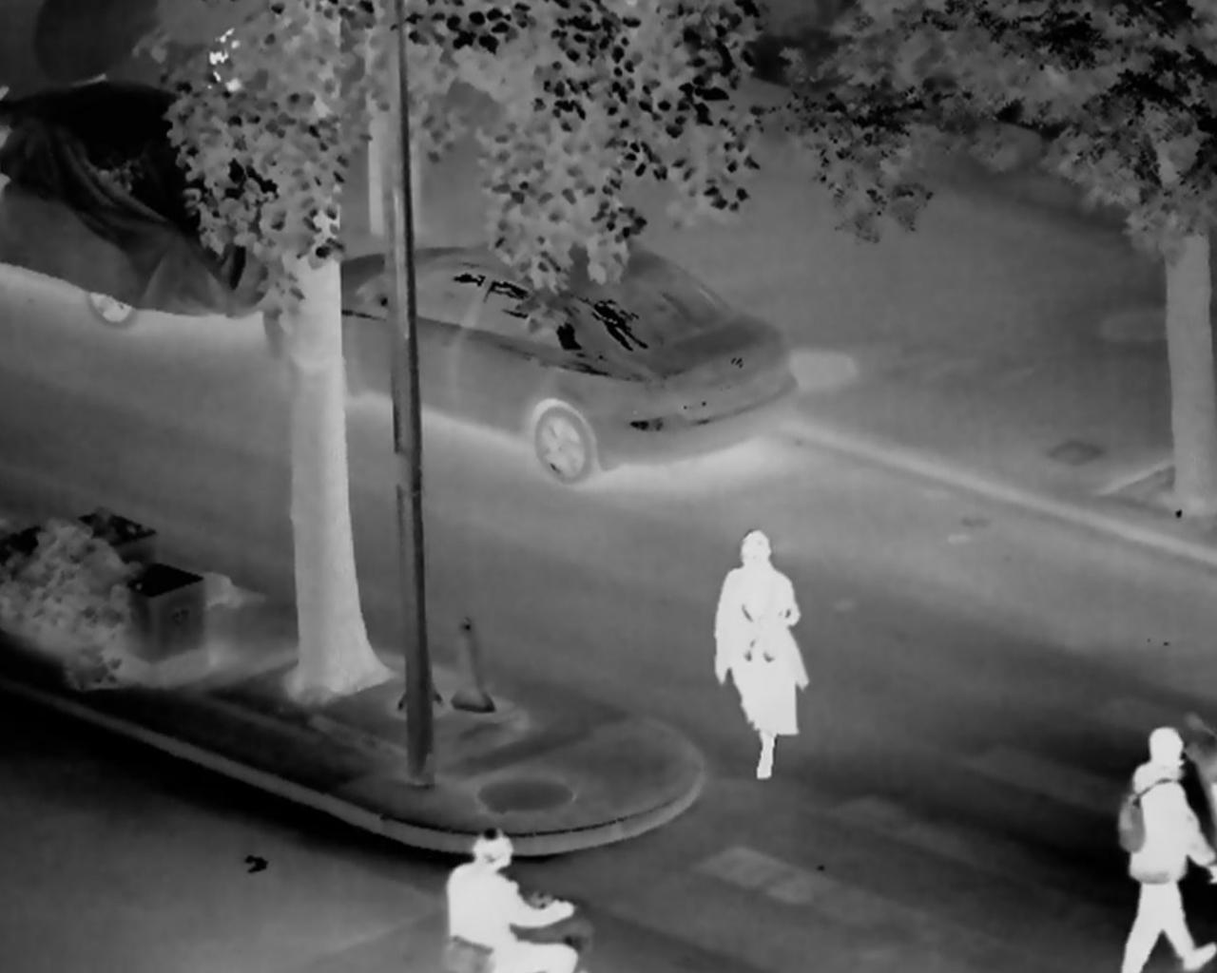person: (695, 531, 838, 803), (1090, 719, 1217, 971), (426, 820, 589, 973)
